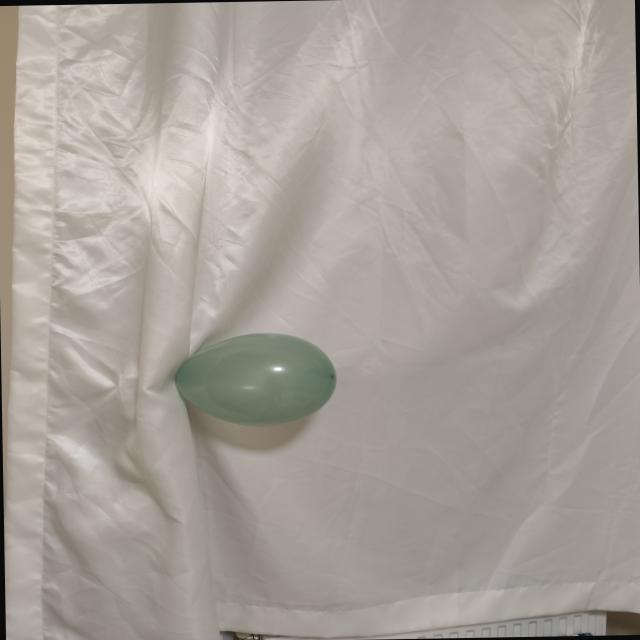balloon: (176, 333, 336, 425)
